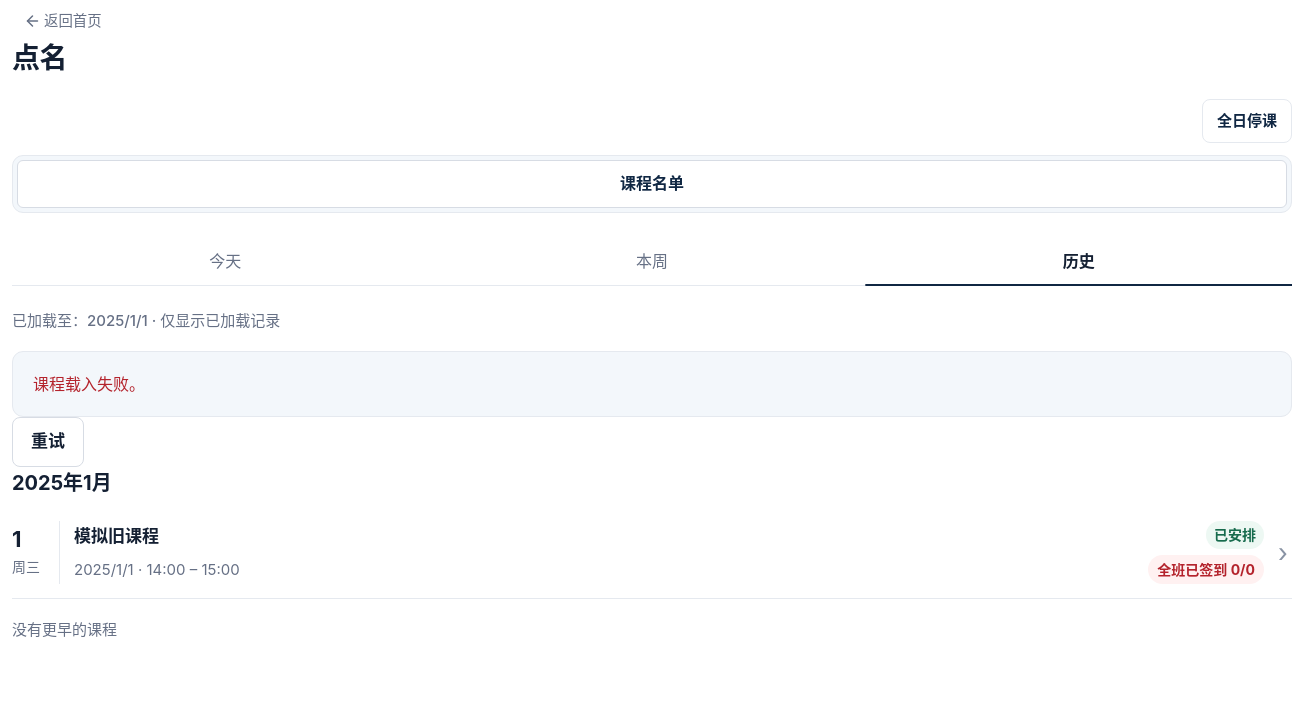
Test: independent history refreshes after 30 seconds while retaining its current loaded list during a failed refresh and retry
Check: the link "模拟旧课程" is shown, box [12,507,1292,600]
Check: the text "课程载入失败。" is shown, box [12,351,1292,417]
What coordinates should you click on to do the following:
click the button "重试"
I would click on:
 (48, 442)
Its box is [12,417,84,467].
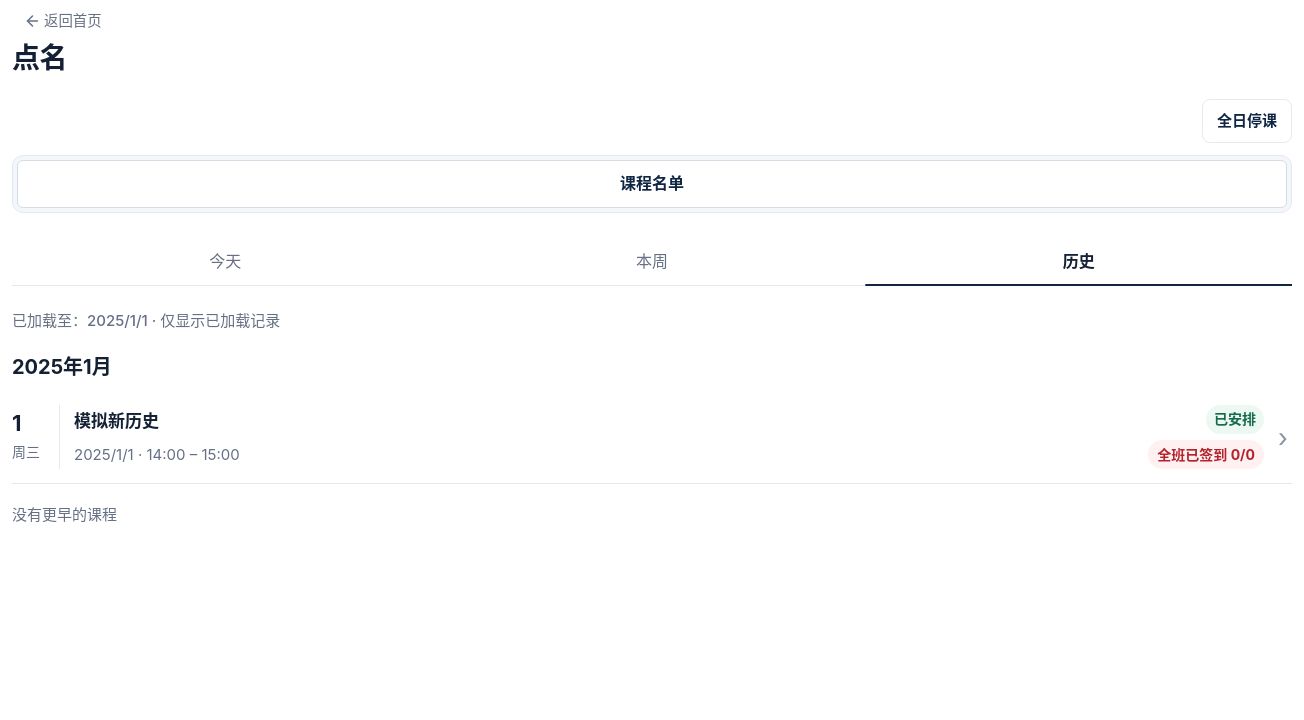
Check: the link "模拟新历史" is shown, box [12,391,1292,484]
